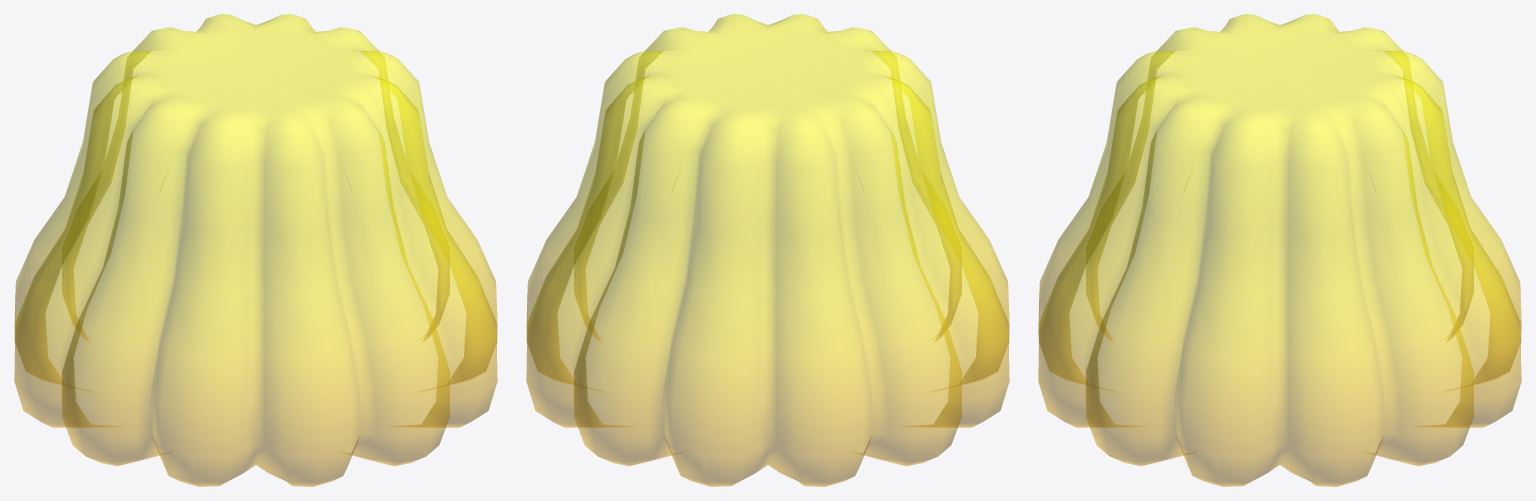
The model's file is Jelly_05.glb.
The picture shows the model from 3 angles, left to right: view 1: azimuth 30°, elevation 25°; view 2: azimuth 150°, elevation 25°; view 3: azimuth 270°, elevation 25°; orthographic projection.
Visible parts, largest first — view 1: Jelly_05; view 2: Jelly_05; view 3: Jelly_05.
Boxes of the visible parts, x1,y1,x2,y2 form: Jelly_05: [14, 14, 497, 486]; Jelly_05: [526, 14, 1009, 486]; Jelly_05: [1038, 14, 1521, 486].
Size of the model in its own units: 16.28 by 12.45 by 16.28.
1 material, 1 textured.
